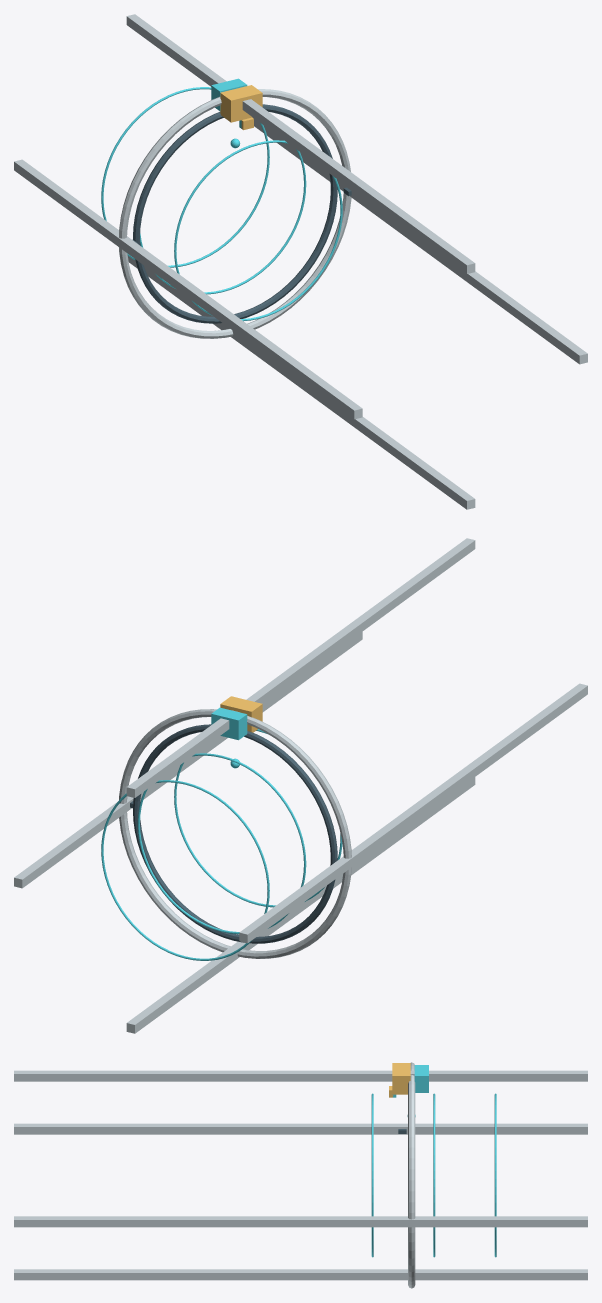
Rendered from MIST-ORIENT-turret.glb.
3 renders of one model, top to bottom at view 1: azimuth 30°, elevation 25°; view 2: azimuth 150°, elevation 25°; view 3: azimuth 270°, elevation 25°, orthographic. The views are drawn at different scales.
Visible parts, largest first — view 1: frame, dark, water, gas; view 2: frame, water, dark, gas; view 3: frame, water, gas.
Boxes of the visible parts, <box> form: frame: <box>14,14,587,509</box>; dark: <box>132,104,351,323</box>; water: <box>101,78,342,321</box>; gas: <box>220,85,262,130</box>; frame: <box>14,538,587,1033</box>; water: <box>101,707,342,960</box>; dark: <box>130,724,337,943</box>; gas: <box>220,696,262,732</box>; frame: <box>14,1062,587,1288</box>; water: <box>371,1065,496,1257</box>; gas: <box>389,1063,410,1097</box>.
Size of what is drawn, in the model's own units: 0.222 by 0.225 by 0.56.
